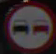No overtake: (5, 3, 51, 42)
